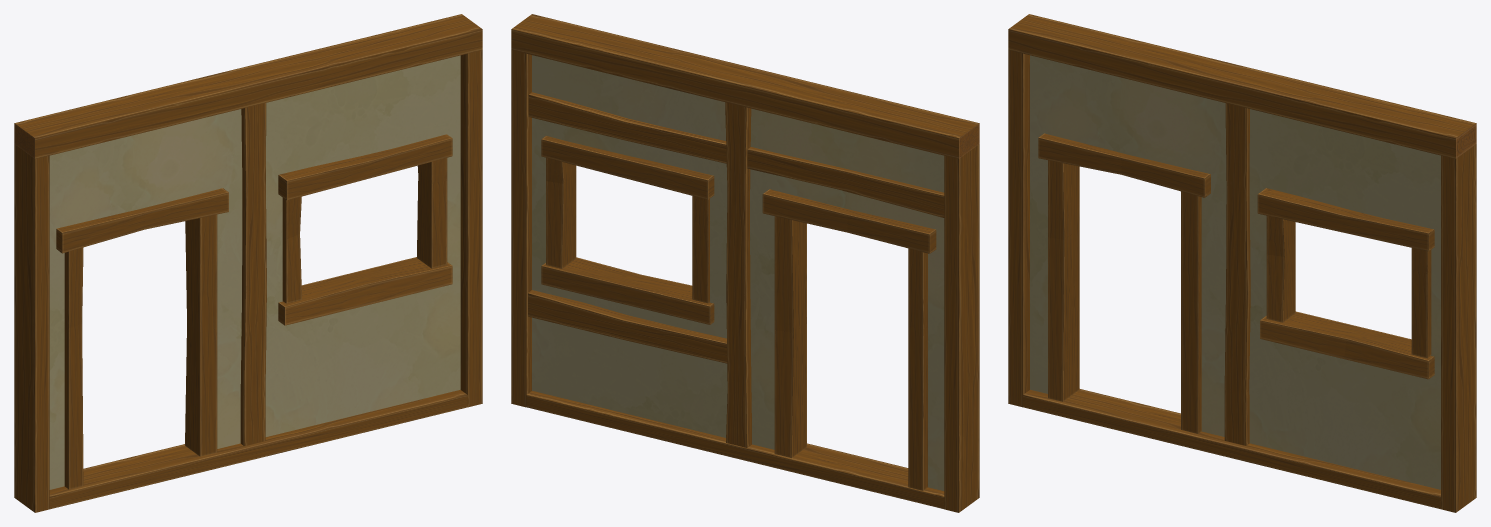
The model's file is SM_House_Wall_5x4_Door_A_01.fbx.
The picture shows the model from 3 angles, left to right: view 1: azimuth 30°, elevation 25°; view 2: azimuth 150°, elevation 25°; view 3: azimuth 330°, elevation 25°; orthographic projection.
Visible parts, largest first — view 1: SM_House_Wall_5x4_Door_A_01; view 2: SM_House_Wall_5x4_Door_A_01; view 3: SM_House_Wall_5x4_Door_A_01.
Part boxes in pixels (x1,y1,x2,y2): SM_House_Wall_5x4_Door_A_01: (14,14,482,512); SM_House_Wall_5x4_Door_A_01: (511,14,979,512); SM_House_Wall_5x4_Door_A_01: (1008,14,1476,512).
Size of the model in its own units: 5 by 4 by 0.4437.
